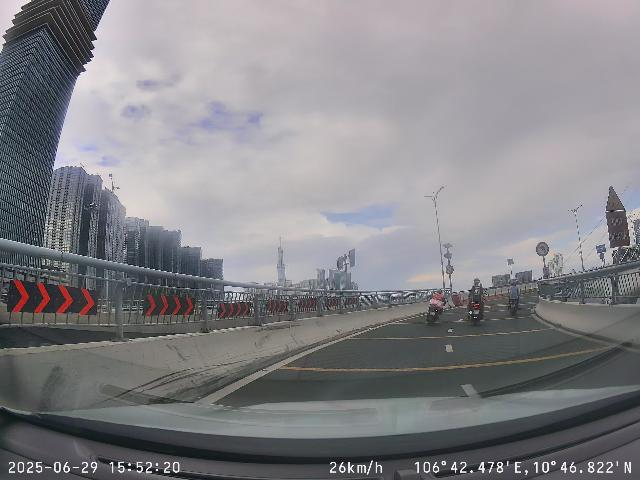123a-cam-re-trai: (536, 242, 549, 256)
123b-cam-re-phai: (445, 265, 452, 274)
